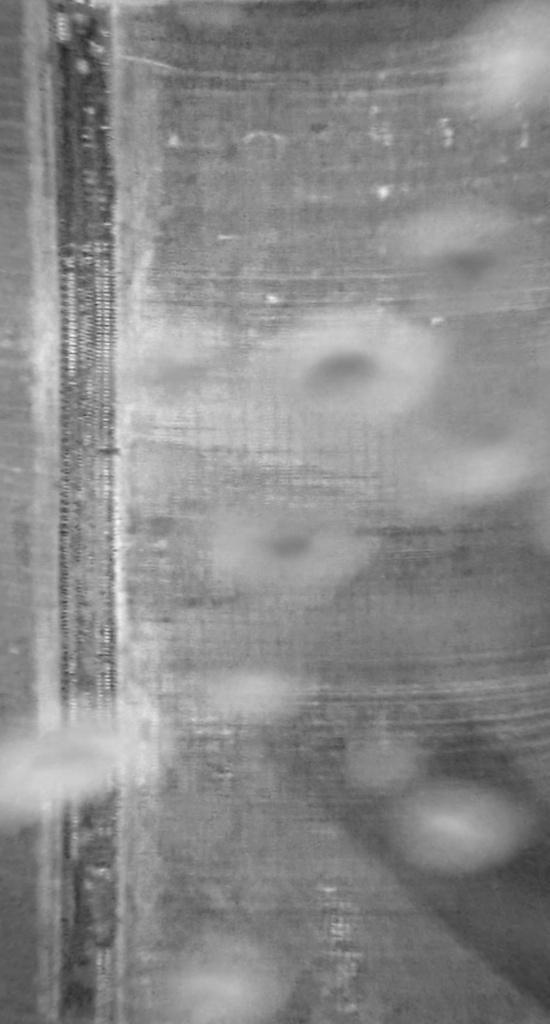splice: (32, 1, 129, 1021)
